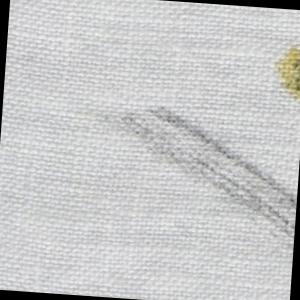Oil Stain: (272, 40, 300, 104)
Stain: (91, 95, 300, 246)
